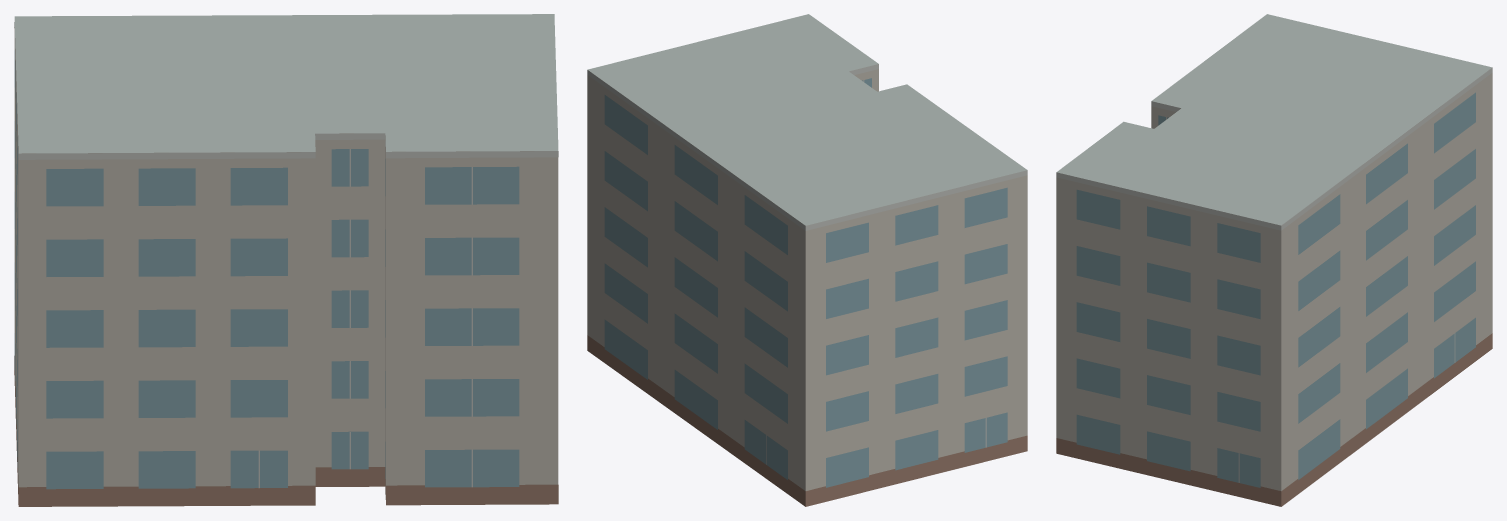
The model's file is survey-upis-32958388.glb.
3 views of the same model, side by side, from view 1: azimuth 30°, elevation 25°; view 2: azimuth 150°, elevation 25°; view 3: azimuth 270°, elevation 25° (orthographic). The views are drawn at different scales.
Visible parts, largest first — view 1: survey-upis-32958388.tmp; view 2: survey-upis-32958388.tmp; view 3: survey-upis-32958388.tmp.
Part boxes in pixels (x1,y1,x2,y2): survey-upis-32958388.tmp: (14,14,558,506); survey-upis-32958388.tmp: (587,14,1027,506); survey-upis-32958388.tmp: (1056,14,1492,506).
Bounding box in the file's own units: 21.62 × 13.4 × 18.84.
